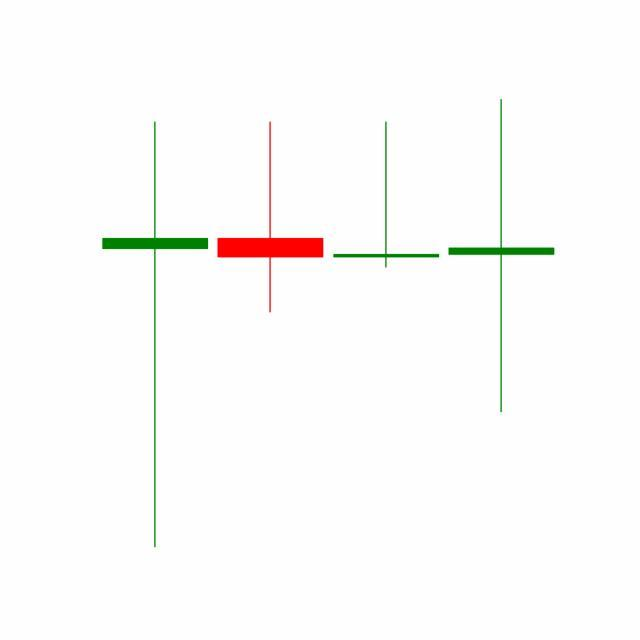Spinning Top: (329, 121, 445, 271)
